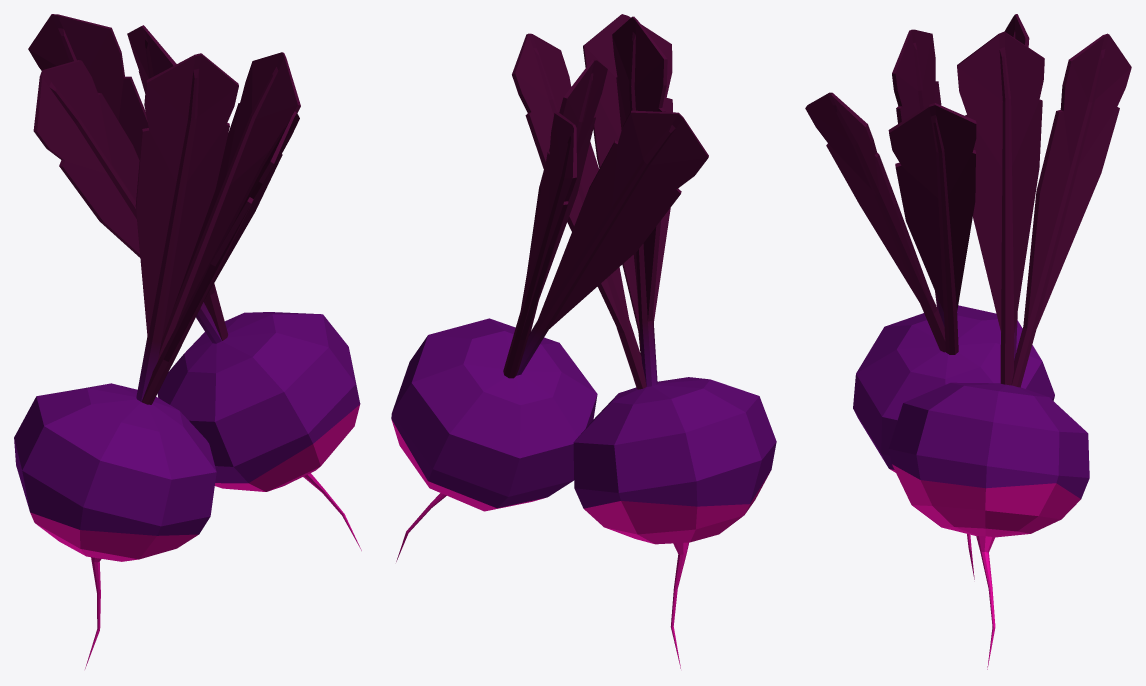
Rendered from Turnip_01.fbx.
3 views of the same model, side by side, from view 1: azimuth 30°, elevation 25°; view 2: azimuth 150°, elevation 25°; view 3: azimuth 270°, elevation 25° (orthographic). The views are drawn at different scales.
Visible parts, largest first — view 1: Turnip_01; view 2: Turnip_01; view 3: Turnip_01.
Boxes of the visible parts, left/top/right/bottom form: Turnip_01: left=14, top=14, right=361, bottom=668; Turnip_01: left=391, top=14, right=776, bottom=668; Turnip_01: left=805, top=14, right=1131, bottom=669.
Size of the model in its own units: 3.64 by 6.07 by 3.05.
